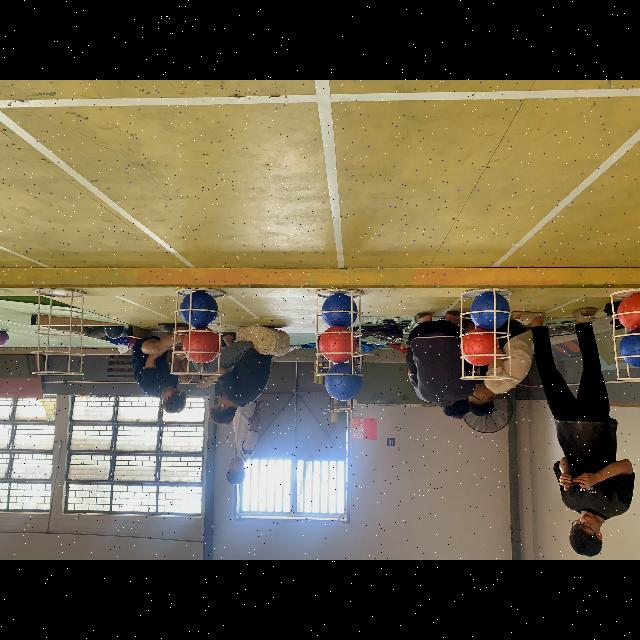B: (324, 363, 362, 401), (470, 292, 510, 328), (180, 291, 218, 327), (322, 294, 358, 328), (620, 329, 640, 367)
R: (460, 329, 500, 366), (319, 325, 356, 363), (182, 327, 220, 363), (616, 294, 640, 330)
